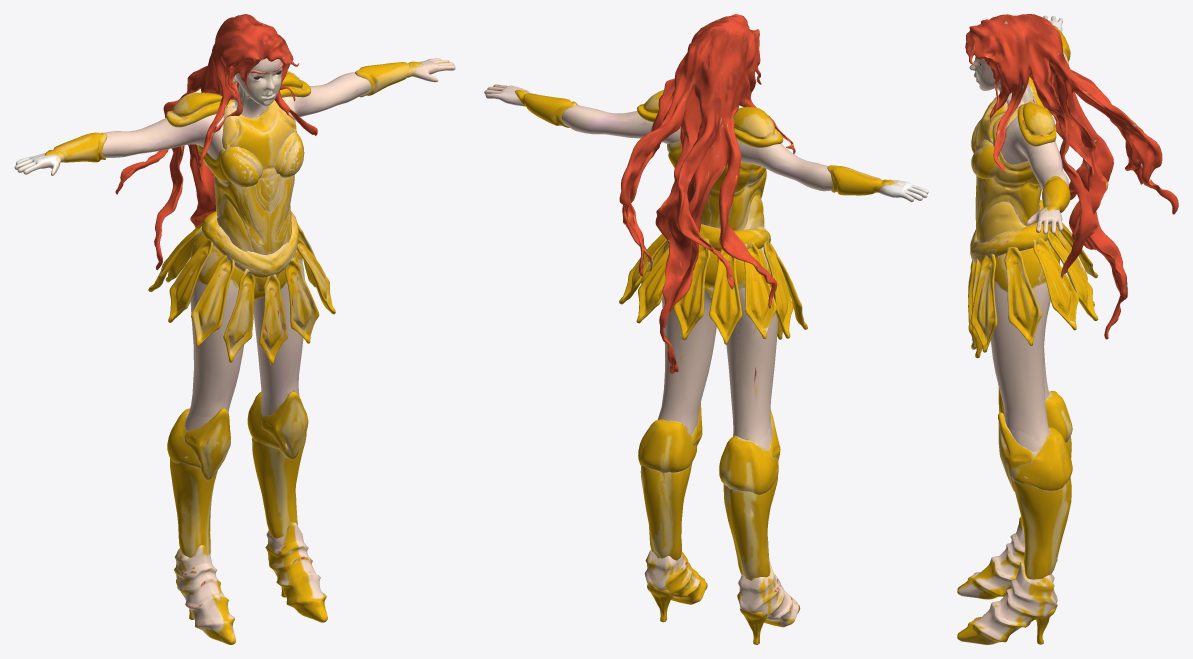
File: avgi.glb
3 views of the same model, side by side, from view 1: azimuth 30°, elevation 25°; view 2: azimuth 150°, elevation 25°; view 3: azimuth 270°, elevation 25° (orthographic).
Parts seen in each view (by area): view 1: Sphere.016; view 2: Sphere.016; view 3: Sphere.016.
Boxes of the visible parts, bbox=[...] form: Sphere.016: bbox=[14, 14, 455, 644]; Sphere.016: bbox=[484, 14, 928, 644]; Sphere.016: bbox=[957, 14, 1178, 644].
Bounding box in the file's own units: 11.11 × 14.52 × 4.8.
2 materials, 1 textured.
